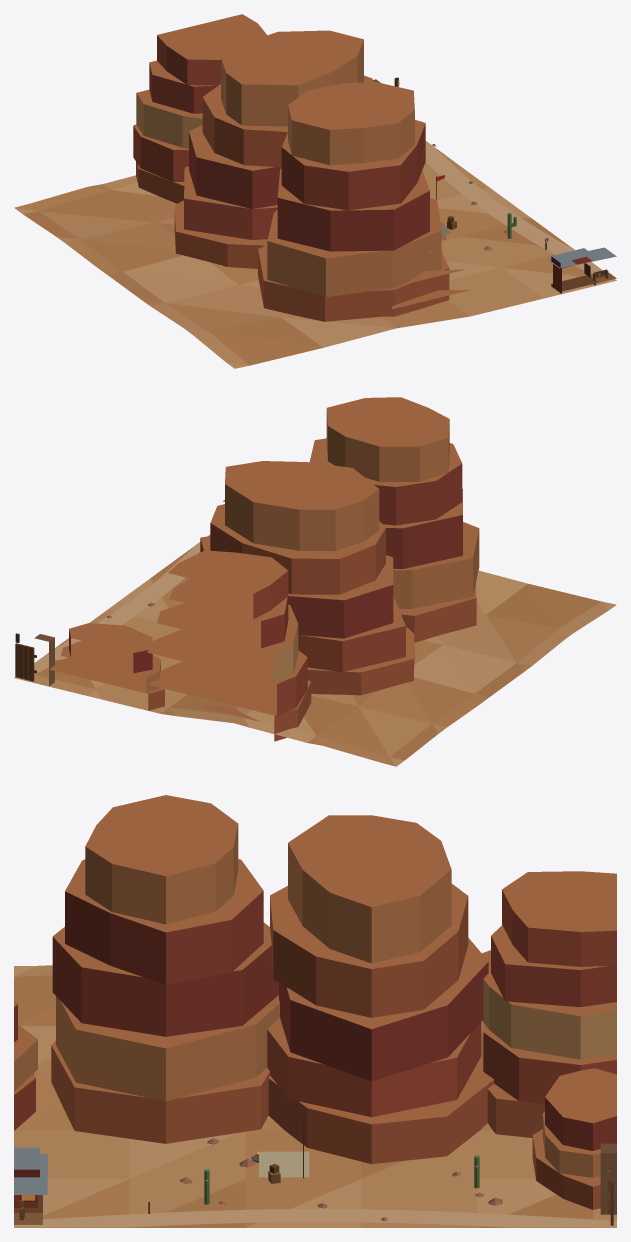
3 views of the same model, one above another, from view 1: azimuth 30°, elevation 25°; view 2: azimuth 150°, elevation 25°; view 3: azimuth 270°, elevation 25° (orthographic). The views are drawn at different scales.
Visible parts, largest first — view 1: baked; view 2: baked; view 3: baked.
Part boxes in pixels (bbox=[...]): baked: bbox=[14, 14, 616, 368]; baked: bbox=[14, 397, 616, 766]; baked: bbox=[14, 795, 616, 1227].
Size of the model in its own units: 62.5 by 28.97 by 62.5.
